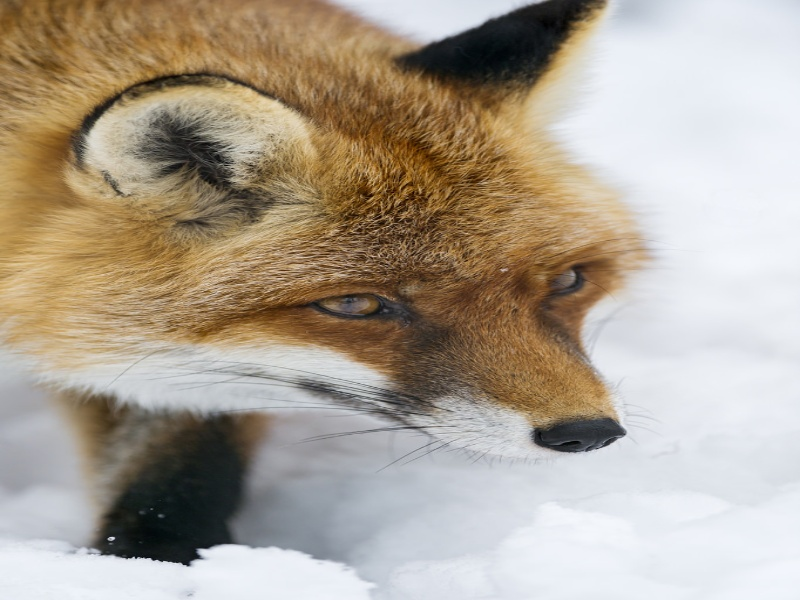fox: (1, 4, 669, 571)
